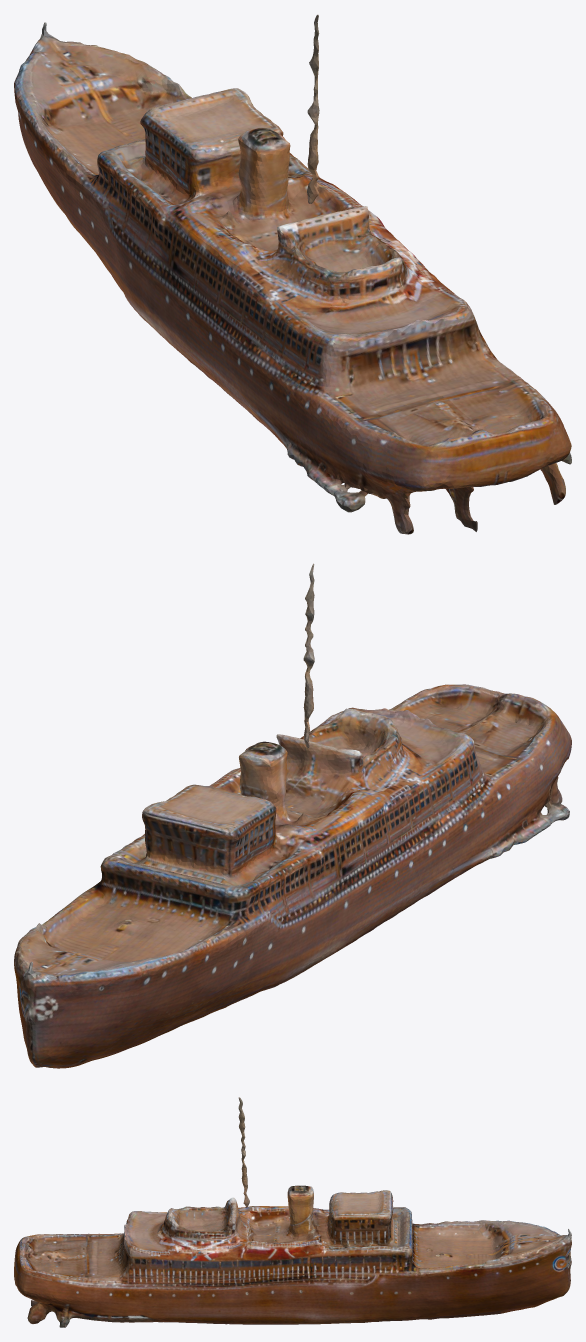
File: Yarrow Motor Yacht - a_detailed_intricately_crafted_wooden_model_of_a_steamship_the_vessel_features_a_tall_upright_mas.glb
The picture shows the model from 3 angles, top to bottom: view 1: azimuth 30°, elevation 25°; view 2: azimuth 150°, elevation 25°; view 3: azimuth 270°, elevation 25°; orthographic projection. The views are drawn at different scales.
Parts seen in each view (by area): view 1: geometry_0; view 2: geometry_0; view 3: geometry_0.
Boxes of the visible parts, <box> form: geometry_0: <box>14,14,571,534</box>; geometry_0: <box>14,563,571,1068</box>; geometry_0: <box>14,1097,571,1327</box>.
Size of the model in its own units: 0.2685 by 0.4324 by 1.01.
Materials: 1 (1 with a texture image).
